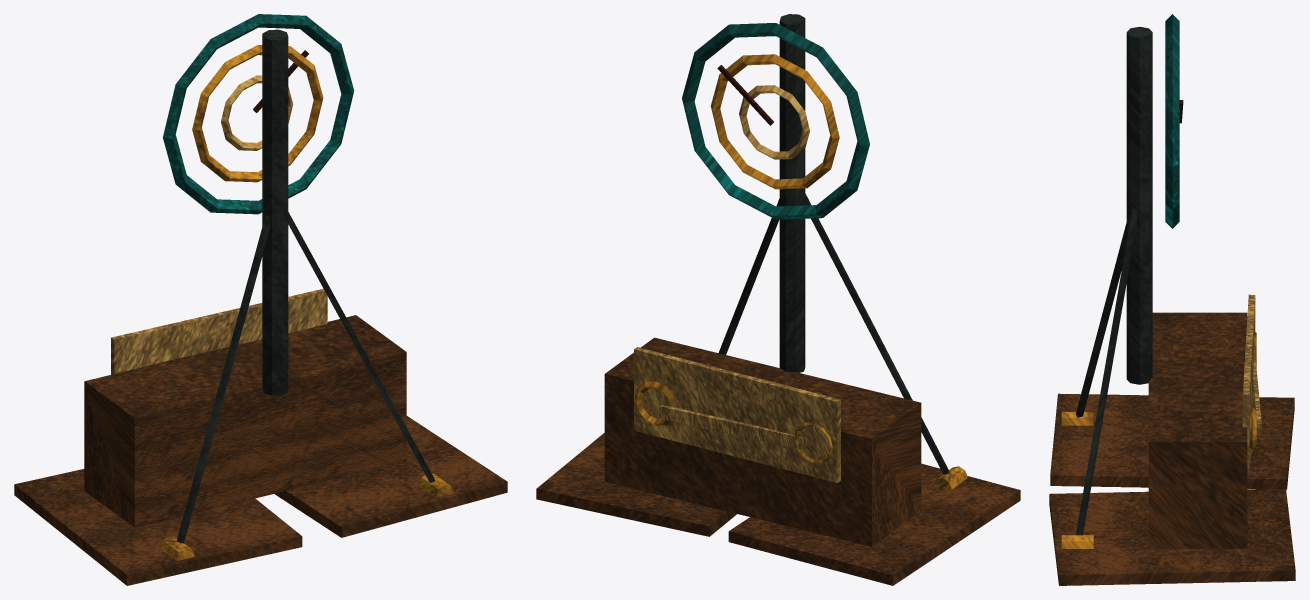
File: dead-gap-charting-station.glb
3 views of the same model, side by side, from view 1: azimuth 30°, elevation 25°; view 2: azimuth 150°, elevation 25°; view 3: azimuth 270°, elevation 25° (orthographic). The views are drawn at different scales.
Visible parts, largest first — view 1: dead-gap-charting-station; view 2: dead-gap-charting-station; view 3: dead-gap-charting-station.
Boxes of the visible parts, x1,y1,x2,y2 form: dead-gap-charting-station: (14,14,507,585); dead-gap-charting-station: (536,14,1020,585); dead-gap-charting-station: (1049,14,1295,585).
Bounding box in the file's own units: 5.89 × 7.13 × 3.38.
Materials: 1 (1 with a texture image).
